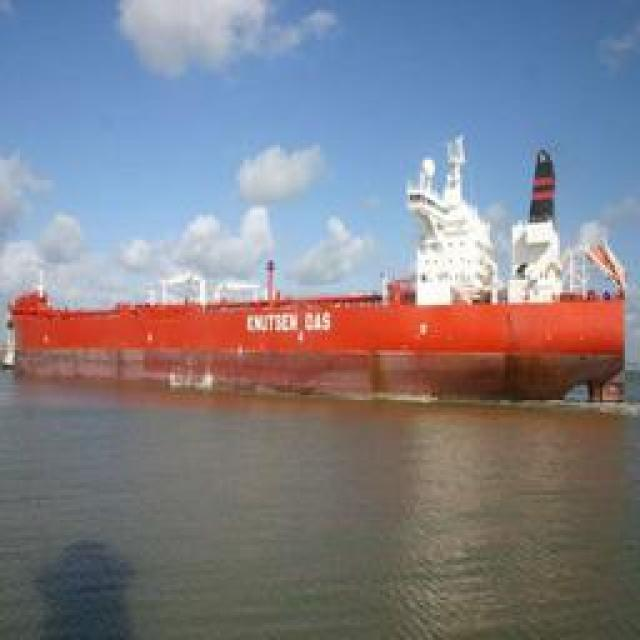ship2: (10, 131, 628, 403)
